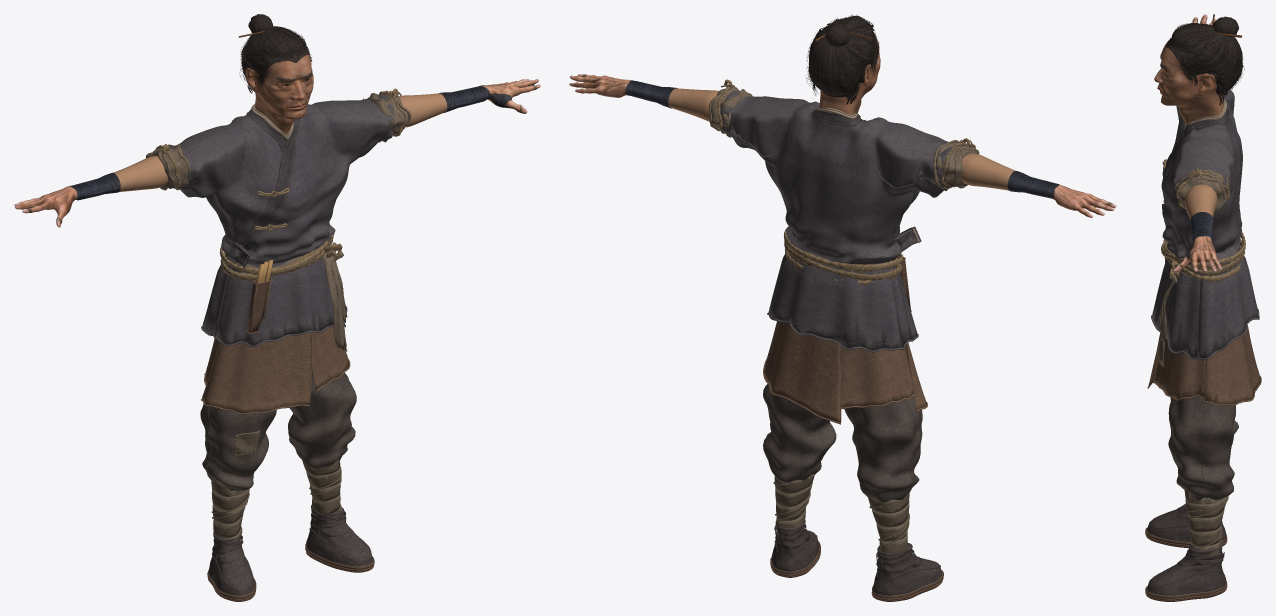
Rendered from ShenShang_TPose.fbx.
3 views of the same model, side by side, from view 1: azimuth 30°, elevation 25°; view 2: azimuth 150°, elevation 25°; view 3: azimuth 270°, elevation 25° (orthographic). The views are drawn at different scales.
Parts seen in each view (by area): view 1: Jacket_Torso, Split_Apron, Jacket_Tails, Trousers_R, Trousers_L, Head_ShenShang_Head_147, Cloth_Shoe_L, Waist_Sash, Cloth_Shoe_R, Crossed_Collar, V2_Hand_R, UpdatedGroom_06 (+9 smaller); view 2: Jacket_Torso, Split_Apron, Jacket_Tails, Trousers_R, Trousers_L, UpdatedGroom_06, Cloth_Shoe_R, UpdatedGroom_05, Cloth_Shoe_L, V2_Hand_R, Waist_Sash, V2_Hand_L (+8 smaller); view 3: Jacket_Torso, Jacket_Tails, Trousers_L, Split_Apron, Cloth_Shoe_L, UpdatedGroom_06, Head_ShenShang_Head_147, UpdatedGroom_05, Leg_Binding_L, Waist_Sash, Cloth_Shoe_R, V2_Hand_L (+6 smaller).
Part boxes in pixels (bbox=[...]): Jacket_Torso: bbox=[169, 95, 394, 264]; Split_Apron: bbox=[201, 326, 350, 415]; Jacket_Tails: bbox=[201, 254, 347, 347]; Trousers_R: bbox=[200, 404, 276, 490]; Trousers_L: bbox=[288, 370, 356, 469]; Head_ShenShang_Head_147: bbox=[245, 54, 313, 135]; Cloth_Shoe_L: bbox=[305, 505, 374, 572]; Waist_Sash: bbox=[219, 233, 347, 349]; Cloth_Shoe_R: bbox=[207, 531, 256, 601]; Crossed_Collar: bbox=[232, 104, 300, 269]; V2_Hand_R: bbox=[14, 172, 120, 227]; UpdatedGroom_06: bbox=[242, 26, 309, 76]; Jacket_Torso: bbox=[720, 90, 952, 265]; Split_Apron: bbox=[763, 321, 927, 424]; Jacket_Tails: bbox=[767, 250, 918, 352]; Trousers_R: bbox=[844, 395, 922, 502]; Trousers_L: bbox=[763, 384, 836, 483]; UpdatedGroom_06: bbox=[809, 16, 876, 97]; Cloth_Shoe_R: bbox=[871, 543, 943, 601]; UpdatedGroom_05: bbox=[808, 16, 875, 95]; Cloth_Shoe_L: bbox=[770, 520, 820, 577]; V2_Hand_R: bbox=[1007, 171, 1116, 217]; Waist_Sash: bbox=[783, 227, 903, 284]; V2_Hand_L: bbox=[569, 74, 677, 108]; Jacket_Torso: bbox=[1161, 89, 1242, 266]; Jacket_Tails: bbox=[1151, 247, 1259, 360]; Trousers_L: bbox=[1168, 396, 1235, 501]; Split_Apron: bbox=[1147, 325, 1261, 406]; Cloth_Shoe_L: bbox=[1145, 542, 1227, 601]; UpdatedGroom_06: bbox=[1166, 24, 1242, 95]; Head_ShenShang_Head_147: bbox=[1154, 41, 1223, 124]; UpdatedGroom_05: bbox=[1169, 23, 1242, 89]; Leg_Binding_L: bbox=[1184, 490, 1228, 554]; Waist_Sash: bbox=[1159, 232, 1245, 368]; Cloth_Shoe_R: bbox=[1145, 504, 1227, 548]; V2_Hand_L: bbox=[1172, 212, 1222, 272].
Bounding box in the file's own units: 1.75 × 1.74 × 0.3363.
Materials: 32 (17 with a texture image).
